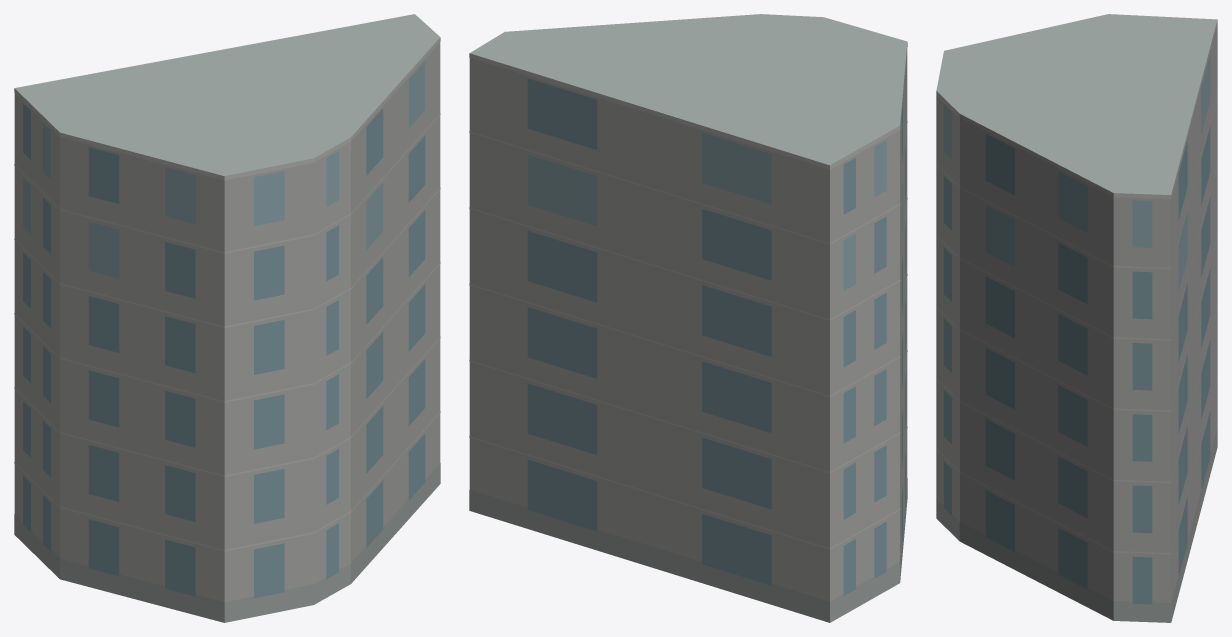
The model's file is survey-upis-32687903.glb.
3 renders of one model, left to right at view 1: azimuth 30°, elevation 25°; view 2: azimuth 150°, elevation 25°; view 3: azimuth 270°, elevation 25°, orthographic. The views are drawn at different scales.
Visible parts, largest first — view 1: survey-upis-32687903.tmp; view 2: survey-upis-32687903.tmp; view 3: survey-upis-32687903.tmp.
Boxes of the visible parts, x1,y1,x2,y2 form: survey-upis-32687903.tmp: (14, 14, 440, 622); survey-upis-32687903.tmp: (469, 14, 907, 622); survey-upis-32687903.tmp: (936, 14, 1217, 622).
Size of the model in its own units: 22.55 by 24.8 by 14.8.
